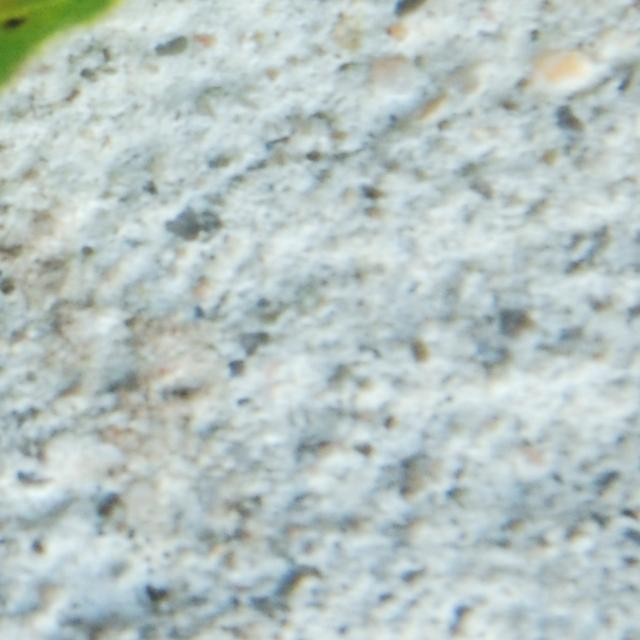Tomato Early blight leaf: (0, 0, 640, 367)
